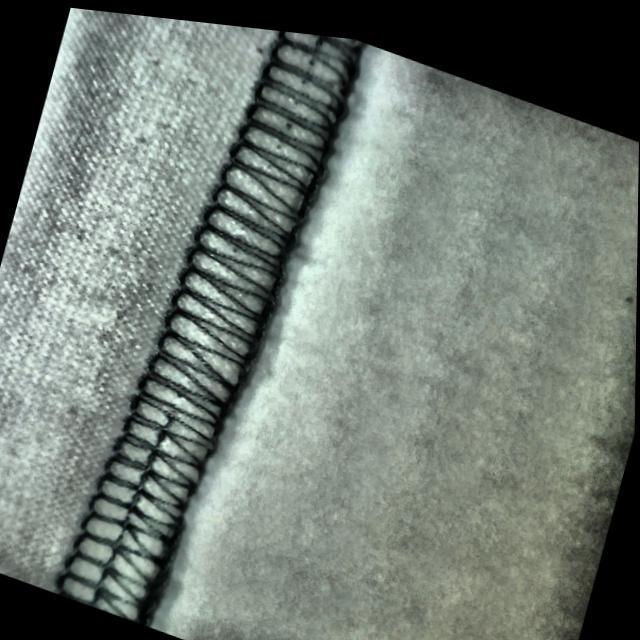Stitch: (47, 239, 278, 640)
